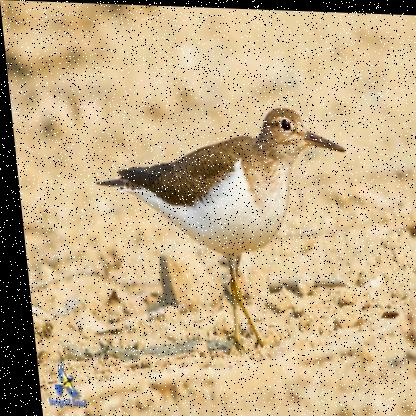Burung: (86, 100, 361, 359)
